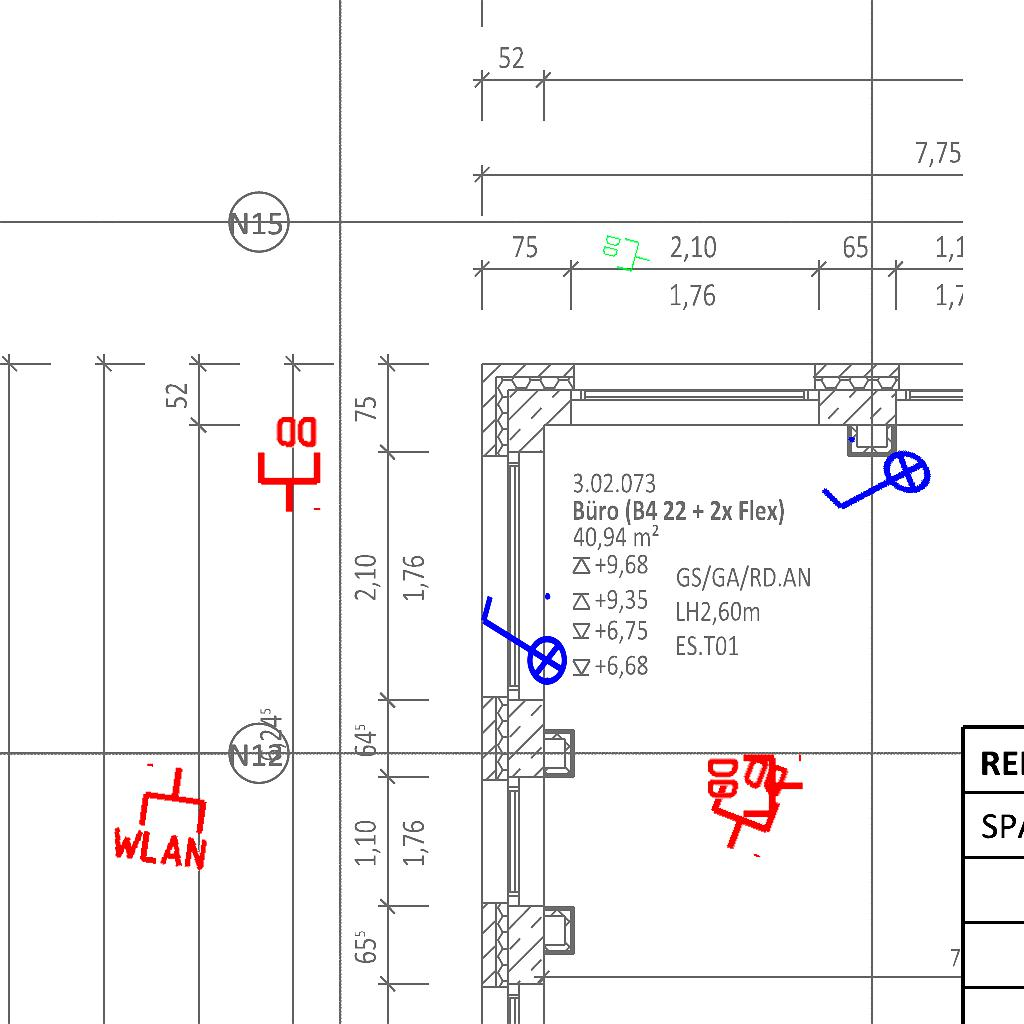Ausschalter_beleuchtet: (806, 416, 952, 556), (473, 587, 569, 699)
Datenanschluss_zweifach: (694, 742, 797, 863), (253, 412, 322, 515), (703, 753, 806, 822), (597, 230, 656, 278)
WLAN: (104, 754, 223, 874)
